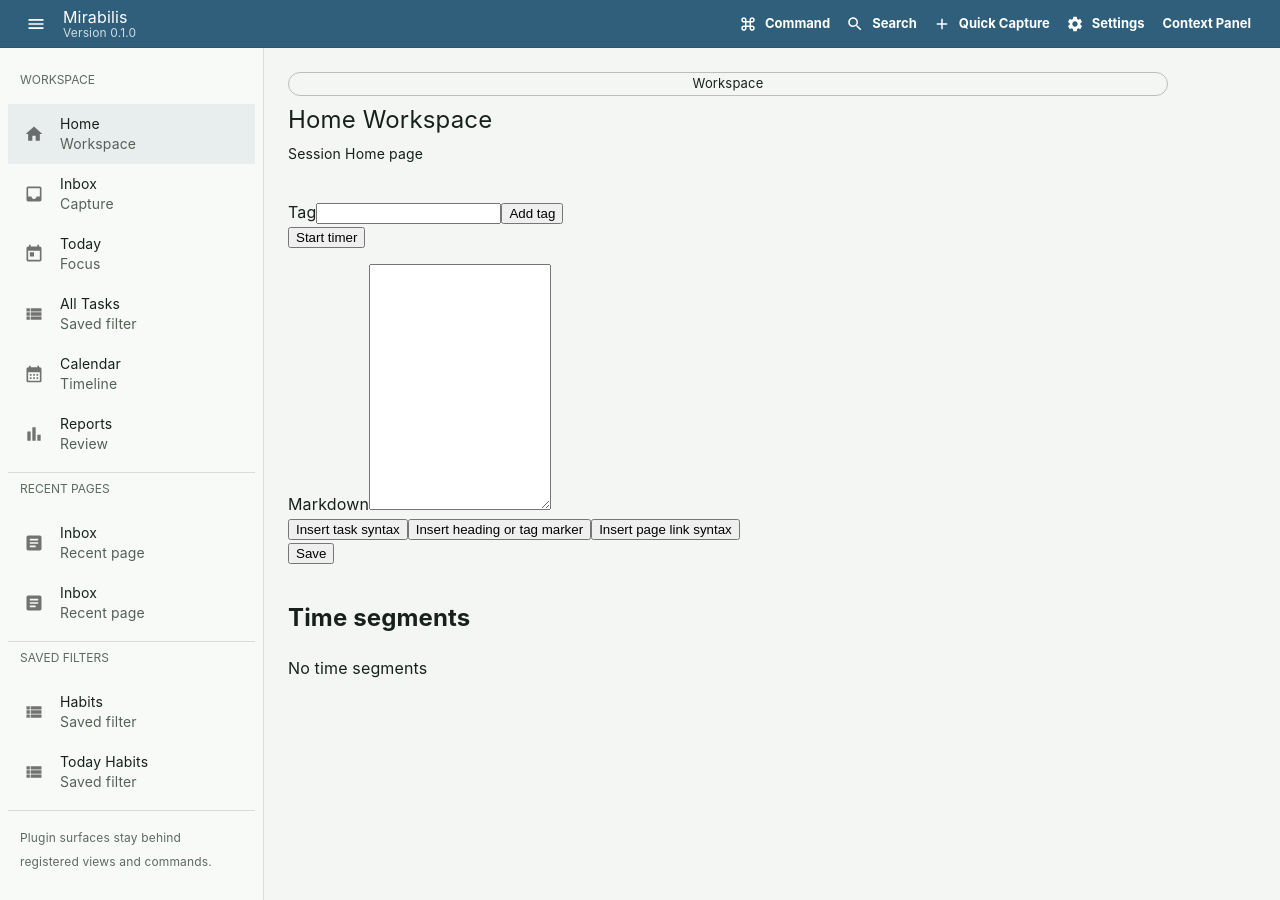
TASK-038 sidebar page and saved-filter navigation › routes Inbox through public Quick Capture save semantics and ignores a title-only Inbox page
Click the button "Inbox Capture".
click(69, 193)  # box [24, 175, 114, 212]
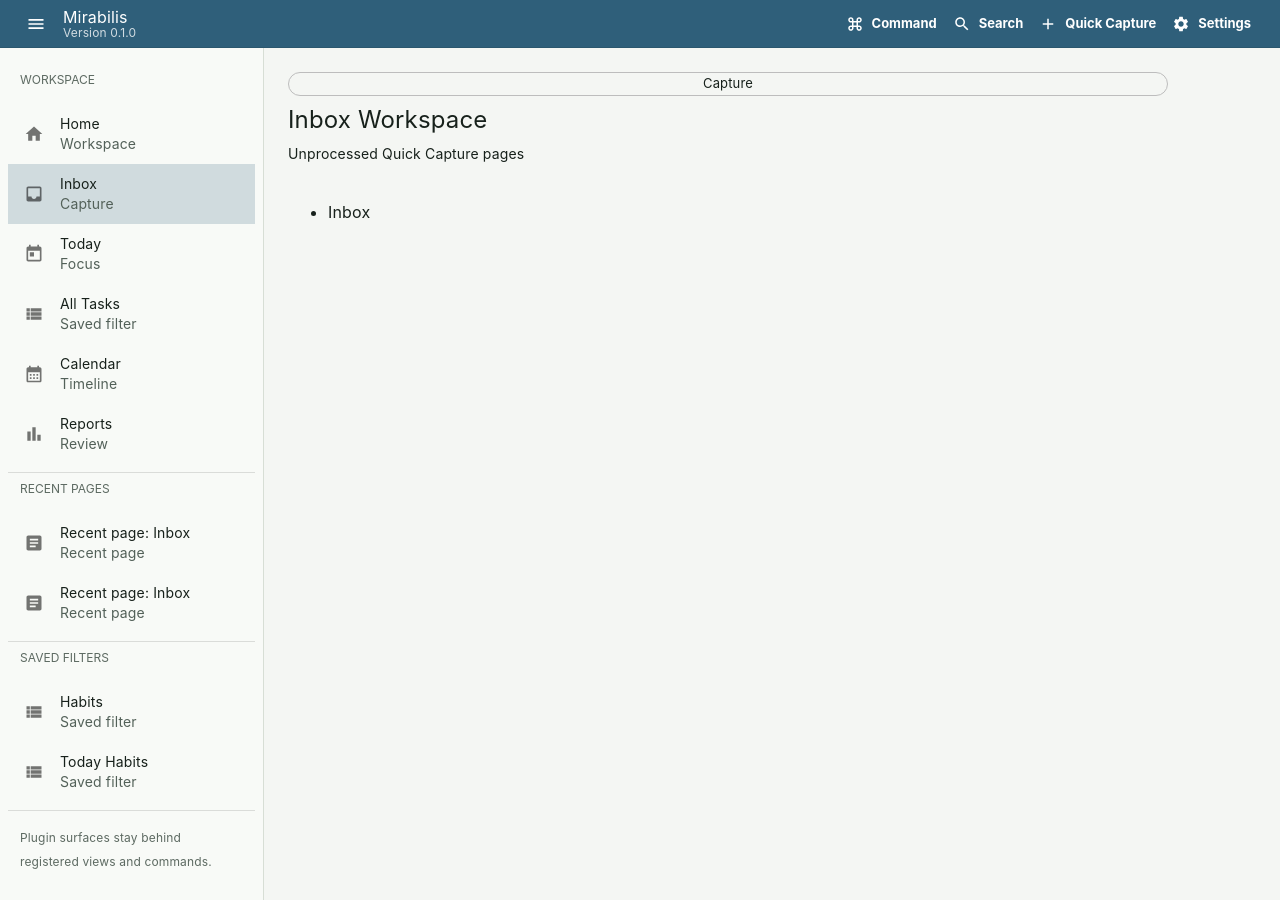
Check: the list item "Inbox" is shown, box [328, 202, 370, 222]
